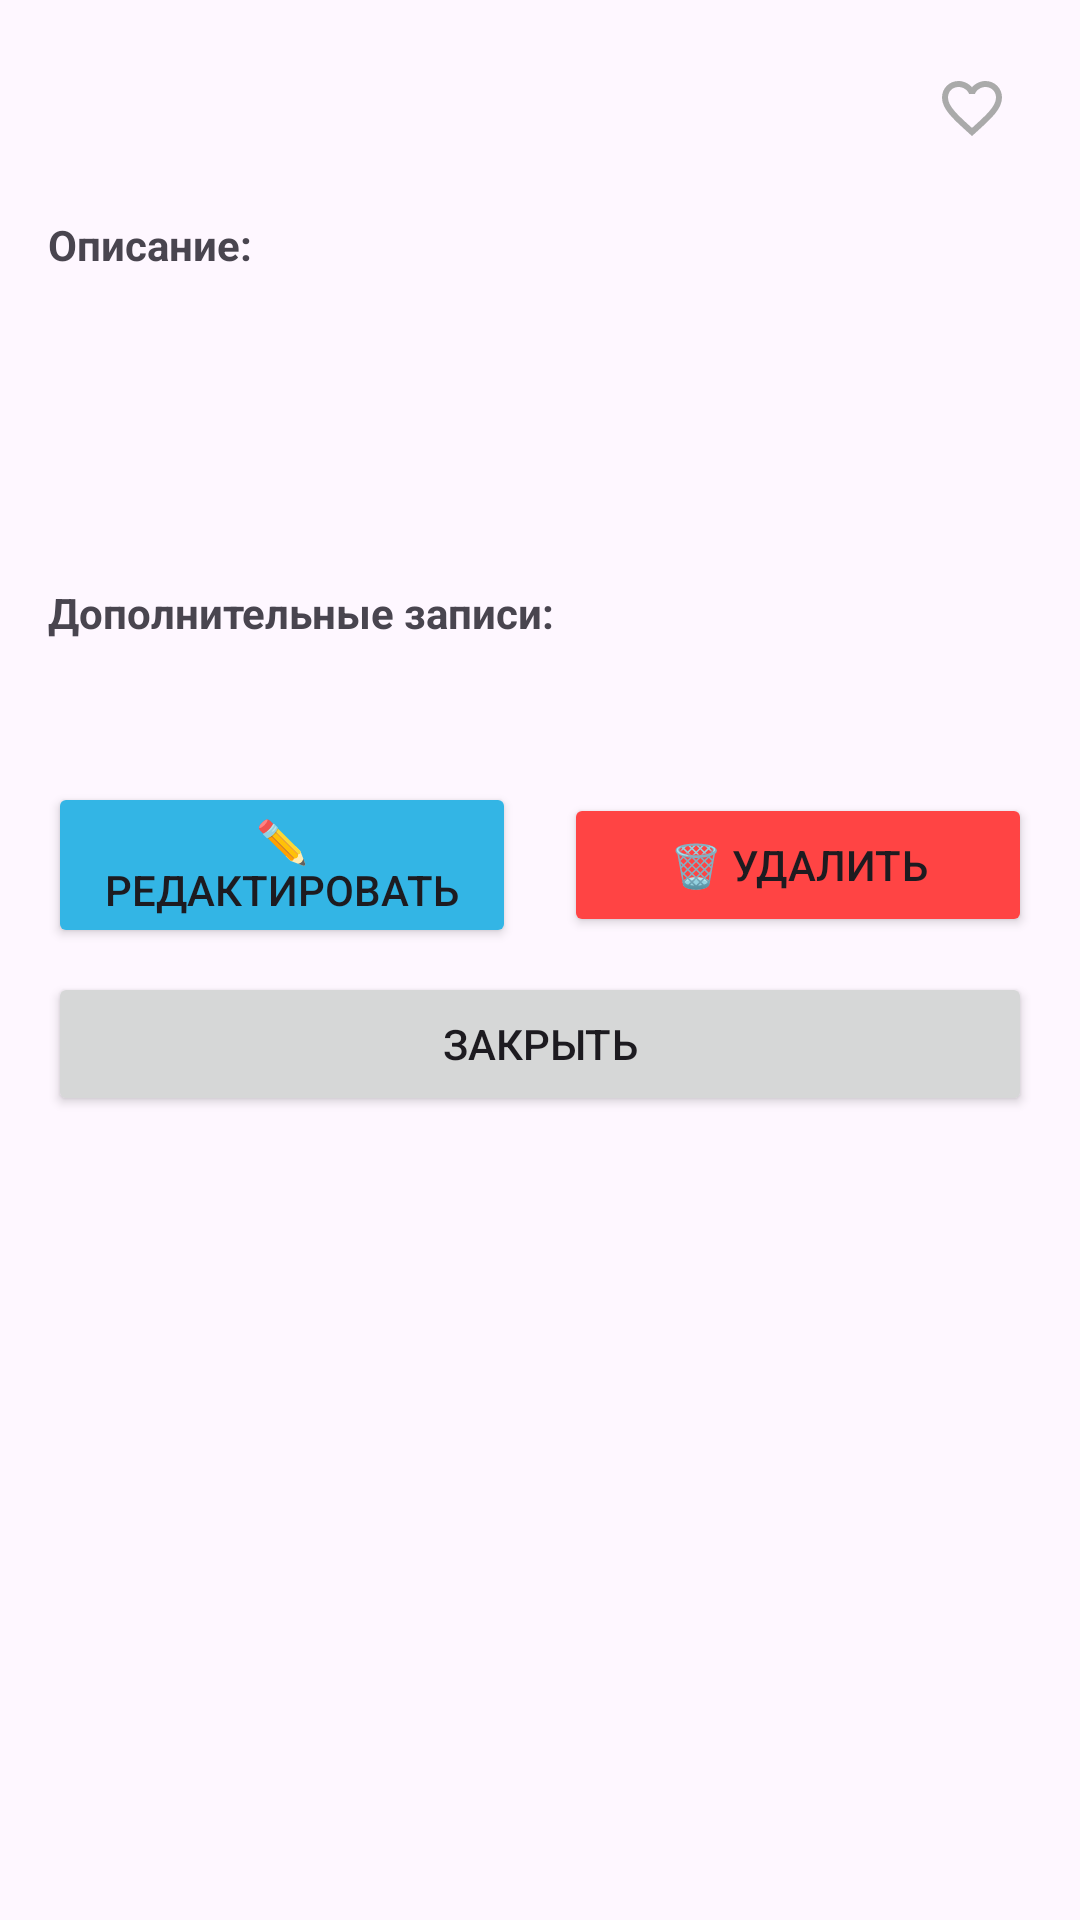

Point at icon controls on the screen. Image size 1080w x 1920h, points as [x,y].
Добавить в избранное: [972,108]
